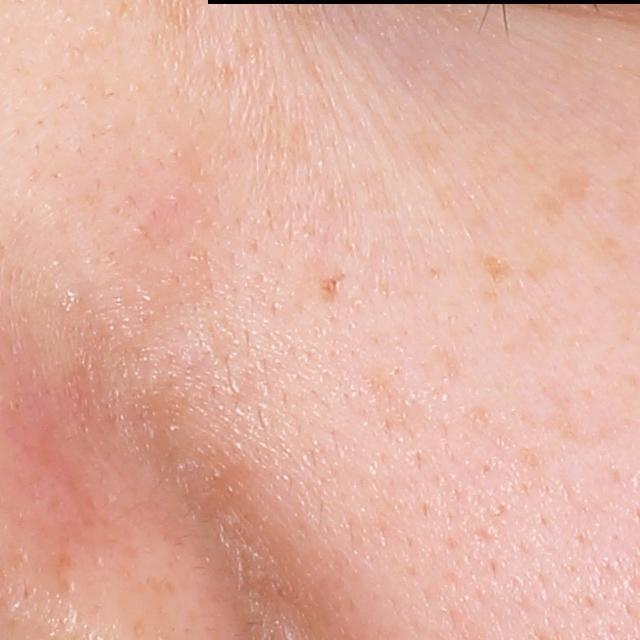melasma: (549, 164, 595, 215), (584, 226, 631, 269), (522, 242, 566, 279), (476, 248, 517, 284)
